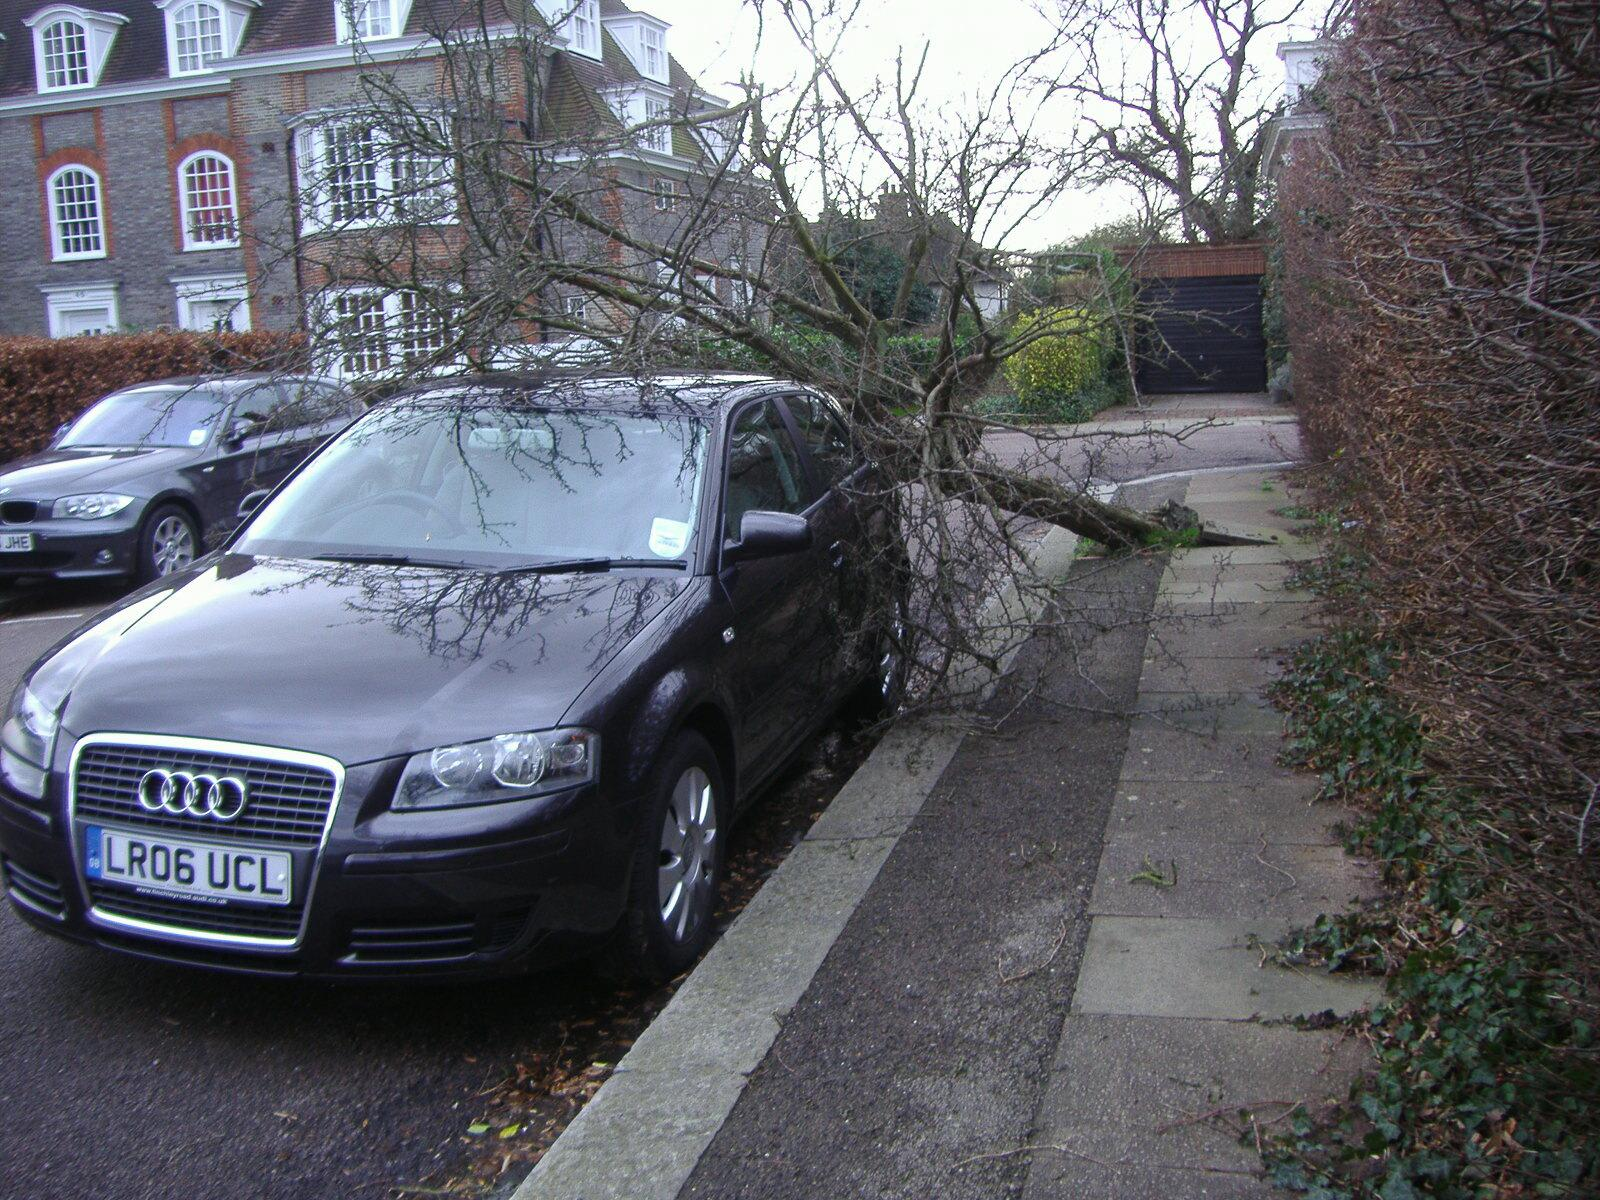roof-dent: (375, 353, 850, 416)
